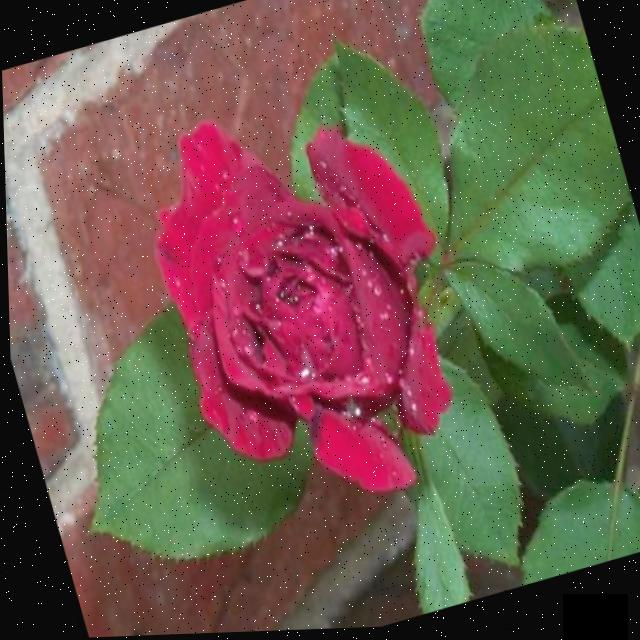rose: (66, 39, 497, 548)
